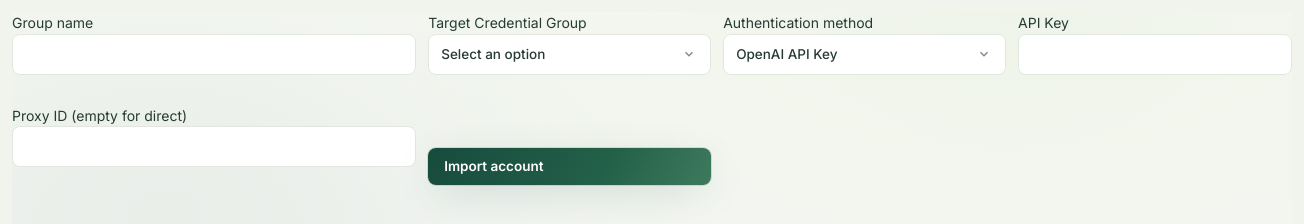
Test case: limits imports to OpenAI groups and clears API key after success
Type "SDK account" into the field named "name" at (214, 54), box [12,34,416,75]
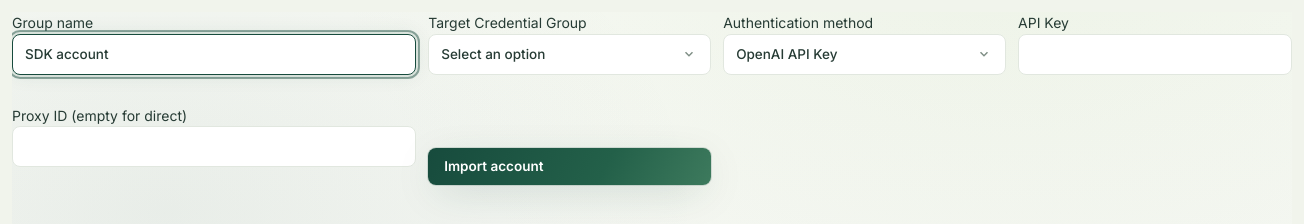
Select "OpenAI group" in the dropdown named "group_id" at (570, 54), box [428,34,711,75]
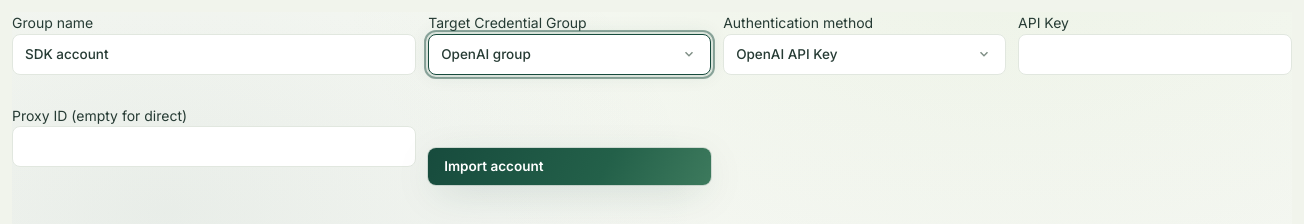
Type "fixture-key" into the password field labelled "API Key" at (1155, 54), box [1018,34,1292,75]
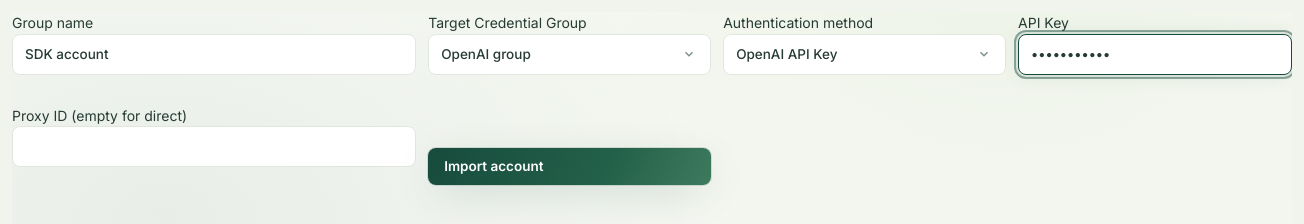
Click the button "Import account" at (494, 166), box [428,148,711,185]
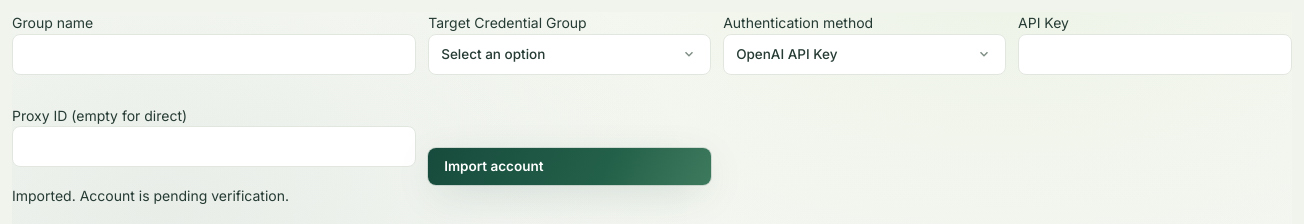
Now the message shows "Imported", box [12,187,289,204]
Now the password field labelled "API Key" is empty, box [1018,34,1292,75]
